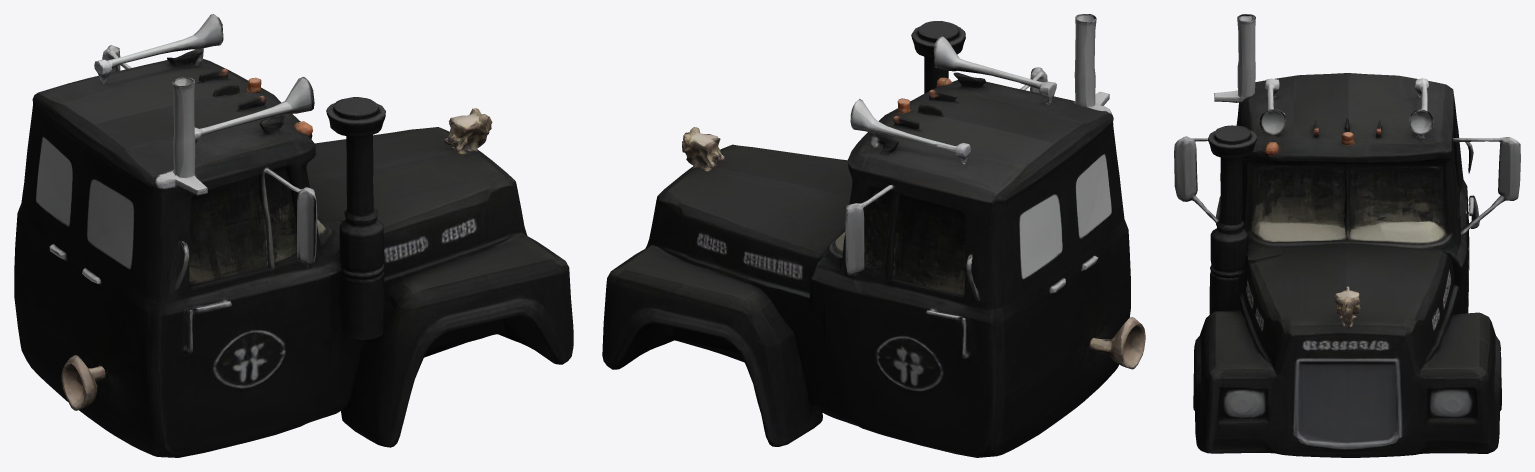
The model's file is mack.glb.
3 views of the same model, side by side, from view 1: azimuth 30°, elevation 25°; view 2: azimuth 150°, elevation 25°; view 3: azimuth 270°, elevation 25° (orthographic). The views are drawn at different scales.
Visible parts, largest first — view 1: mack; view 2: mack; view 3: mack.
Boxes of the visible parts, x1,y1,x2,y2 form: mack: [14, 14, 573, 457]; mack: [602, 14, 1145, 457]; mack: [1174, 14, 1520, 457].
Bounding box in the file's own units: 3.45 × 2.85 × 2.76.
1 material, 1 textured.
